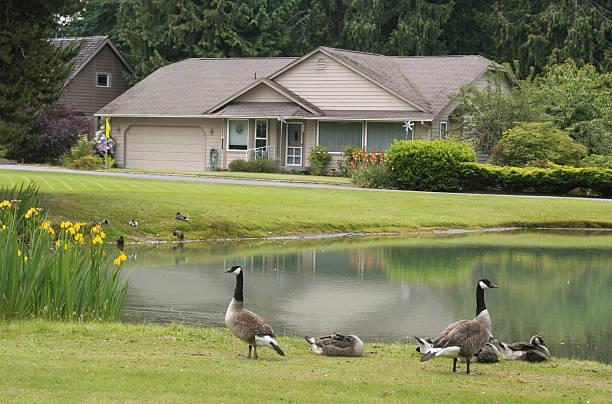Canadian-Goose: (417, 271, 493, 373), (221, 265, 283, 353), (304, 331, 368, 355), (508, 333, 549, 367), (477, 338, 513, 361)
